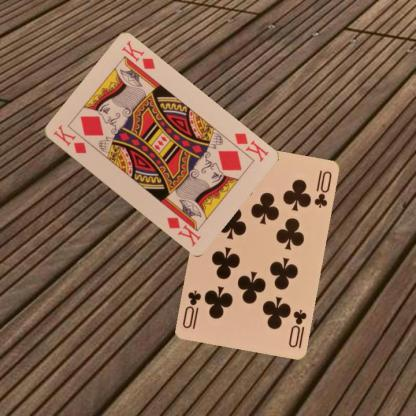10c: (285, 306, 308, 349)
Kd: (232, 130, 270, 164), (50, 122, 88, 155)
